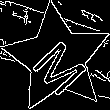M_NE: (23, 24, 91, 93)
